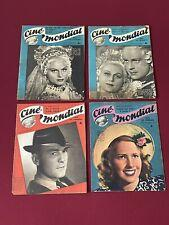paper: (12, 25, 166, 196)
